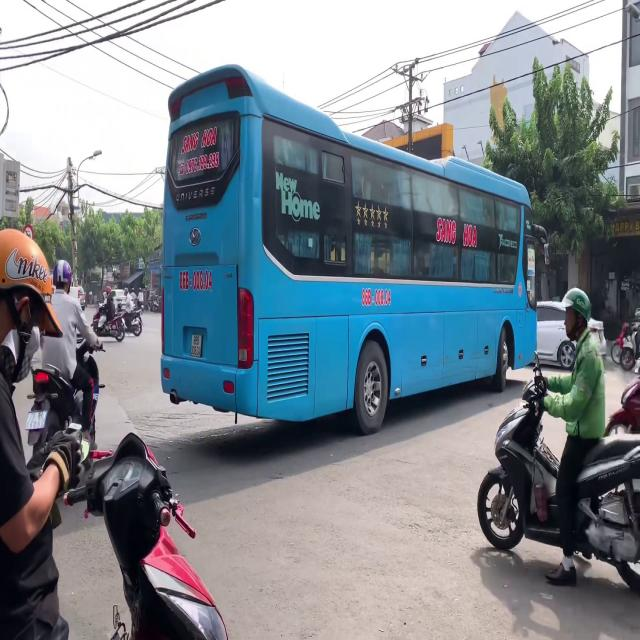bien_trang: (190, 333, 203, 357)
